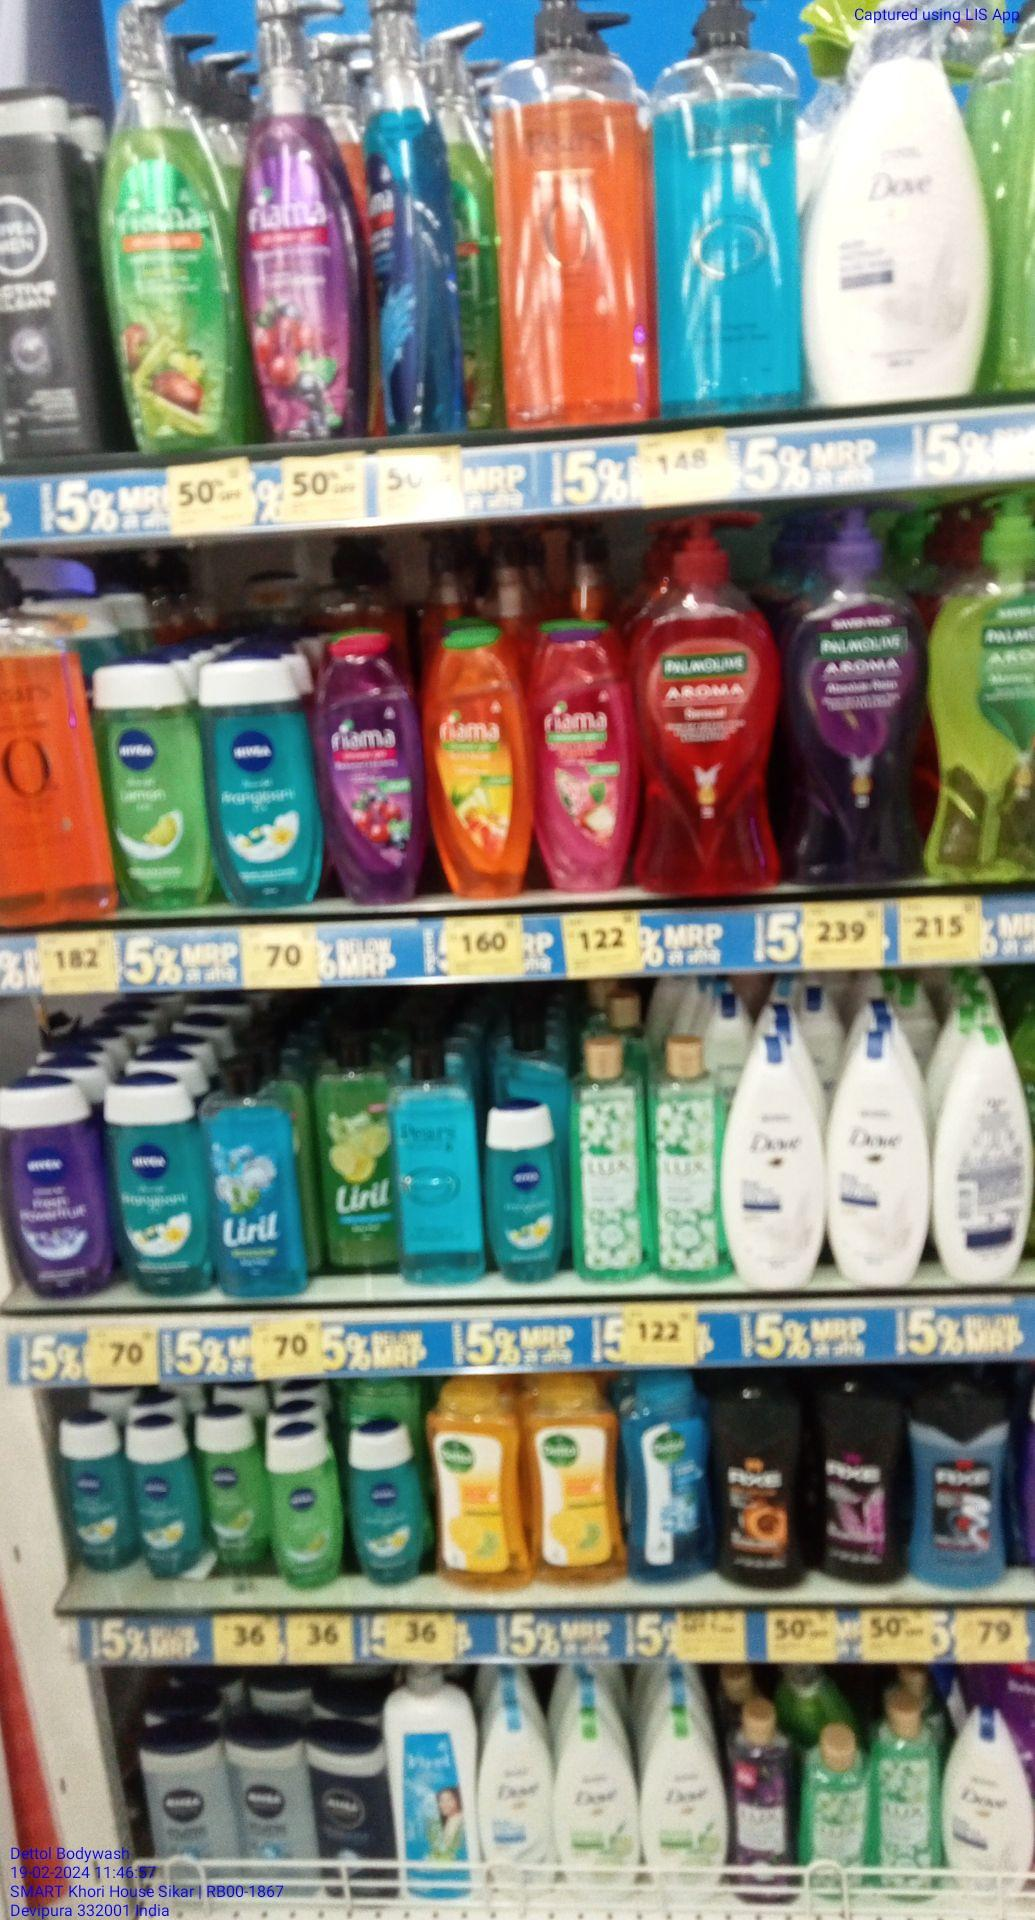Dettol_Bodywash_Cool: (627, 1350, 715, 1582)
Dettol_Bodywash_Refresh: (520, 1377, 623, 1585), (427, 1381, 517, 1594)
Dove_Deep_Moisture_Body_Wash_250ML: (830, 1028, 932, 1287), (729, 1033, 821, 1289), (477, 1693, 557, 1901), (951, 1714, 1034, 1886)
Dove_Refreshing_Body_Wash_250ML: (646, 1702, 729, 1906), (562, 1711, 642, 1897)
Fiama_Shower_Gel_Patchouli_and_Macadamia_250ML: (540, 631, 630, 898)
Fiama_Shower_Gel_Peach_and_Avocado_250ML: (431, 615, 530, 902)
Liril_Cooling_Mint_Body_Wash_250ML: (219, 1061, 308, 1292)
Liril_Lime_and_Tea_Tree_Oil_Body_Wash_250ML: (316, 1026, 396, 1275)
Lux_Black_Orchid_Scent_and_Juniper_Oil_Body_Wash_245ML: (734, 1705, 800, 1910)
Lux_Body_Wash_Skin_Detox_Freesia_Scent_and_Alove_Vera_245ML: (565, 1042, 646, 1280), (654, 1023, 723, 1287), (878, 1696, 946, 1906), (806, 1728, 871, 1902)
Nivea_Shower_Gel_Frangipani_and_Oil_250ML: (212, 671, 322, 908), (119, 1084, 212, 1298)
Nivea_Shower_Gel_Fresh_Powerfruit_250ML: (5, 1089, 113, 1297)
Nivea_Shower_Gel_Lemon_and_Oil_250ML: (106, 666, 203, 902)
Pears_Pure_Glycerin_and_Mint_Extracts_Body_Wash_250ML: (405, 1042, 488, 1287)
